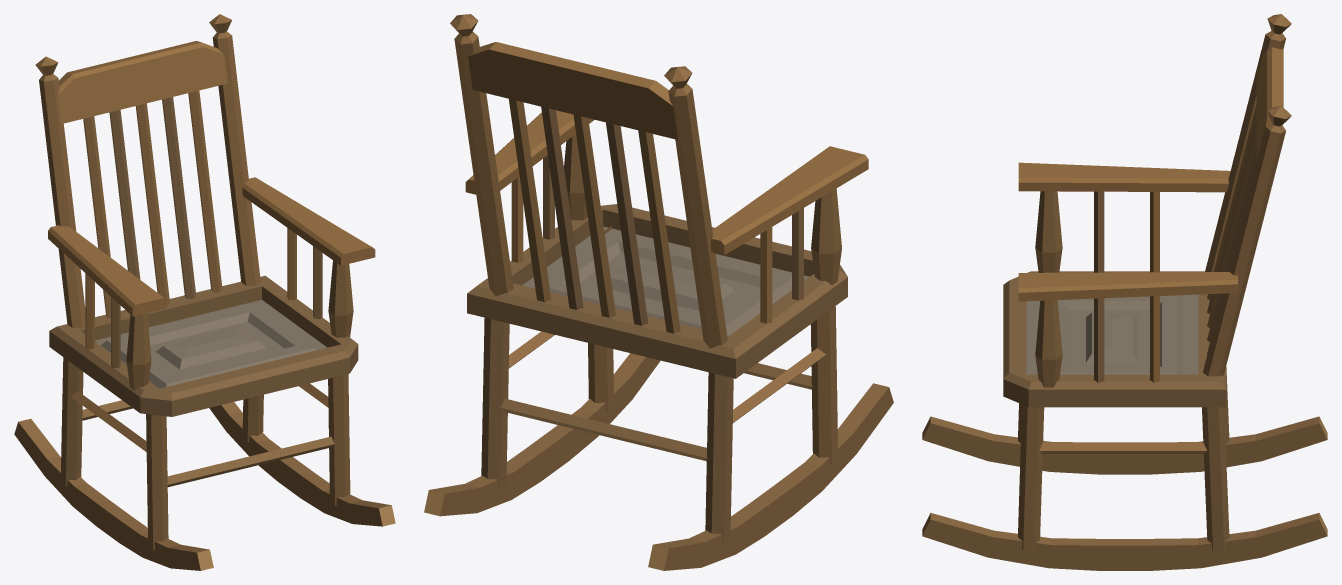
File: porch-rocking-chair-89b2d7.glb
3 views of the same model, side by side, from view 1: azimuth 30°, elevation 25°; view 2: azimuth 150°, elevation 25°; view 3: azimuth 270°, elevation 25° (orthographic). The views are drawn at different scales.
Visible parts, largest first — view 1: chair; view 2: chair; view 3: chair.
Boxes of the visible parts, box(x1,y1,x2,y2) form: chair: box(14, 14, 395, 570); chair: box(424, 14, 893, 570); chair: box(922, 14, 1327, 570).
Bounding box in the file's own units: 0.6 × 1 × 0.8.
